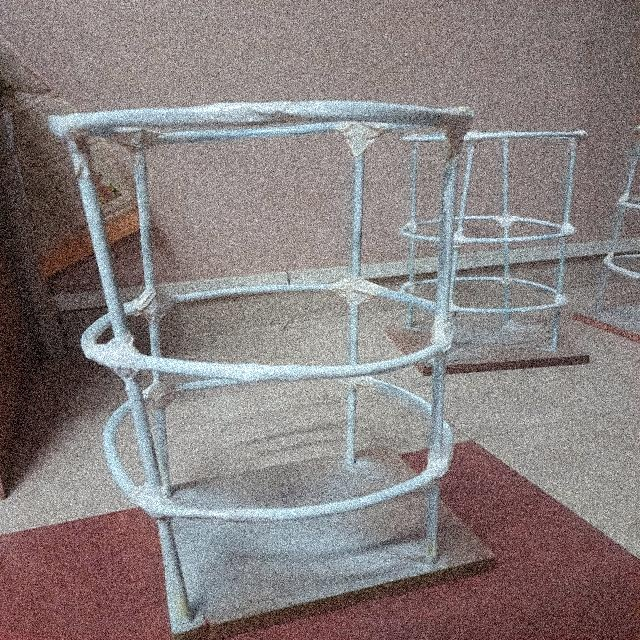silo: (47, 96, 499, 636), (400, 119, 596, 380)
